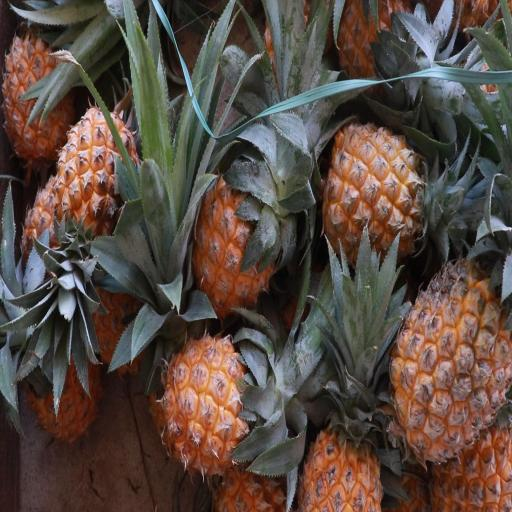Pineapple - v8 v1: (385, 244, 512, 470), (324, 108, 462, 274), (158, 318, 293, 484), (191, 153, 299, 325), (48, 95, 158, 261), (296, 366, 386, 512), (3, 12, 87, 163)
